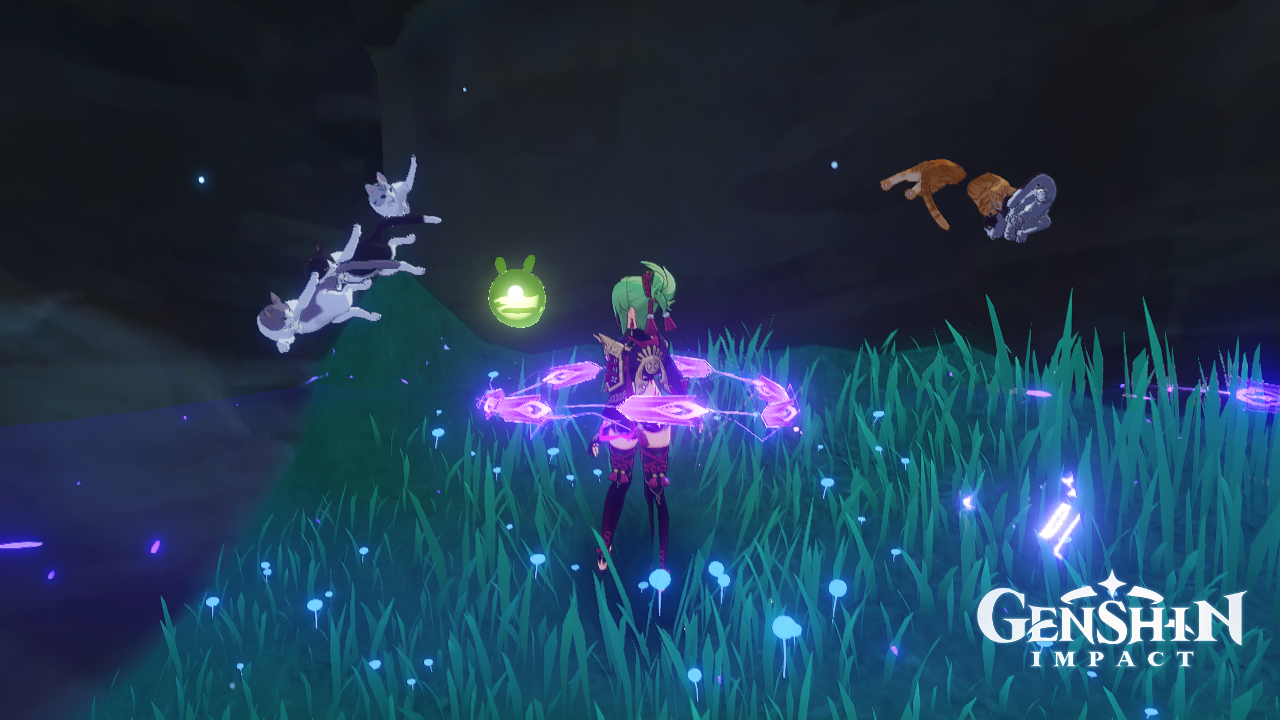Animal: (304, 216, 428, 284), (893, 157, 1006, 211), (987, 177, 1060, 241), (256, 296, 369, 334), (365, 173, 440, 225)
Fairy: (488, 259, 547, 330)
Human: (605, 279, 672, 565)
